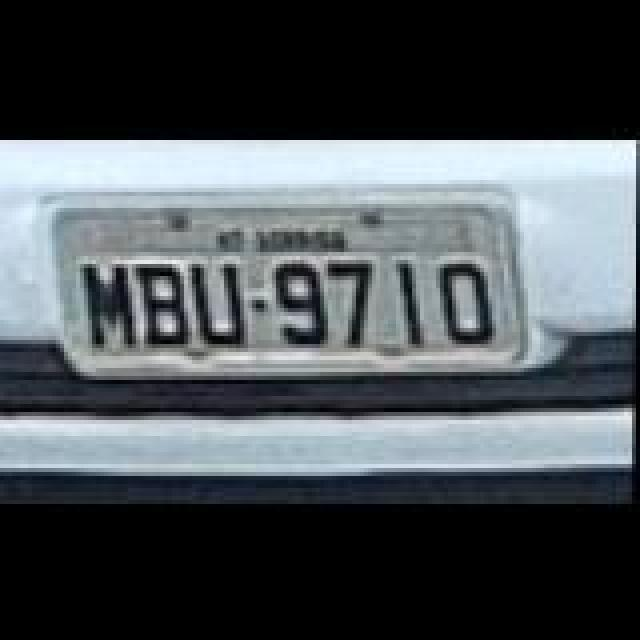1: (392, 260, 432, 348)
7: (326, 256, 386, 344)
9: (272, 256, 336, 344)
B: (132, 260, 196, 348)
D: (436, 256, 500, 344)
M: (76, 258, 140, 350)
U: (188, 256, 252, 344)
